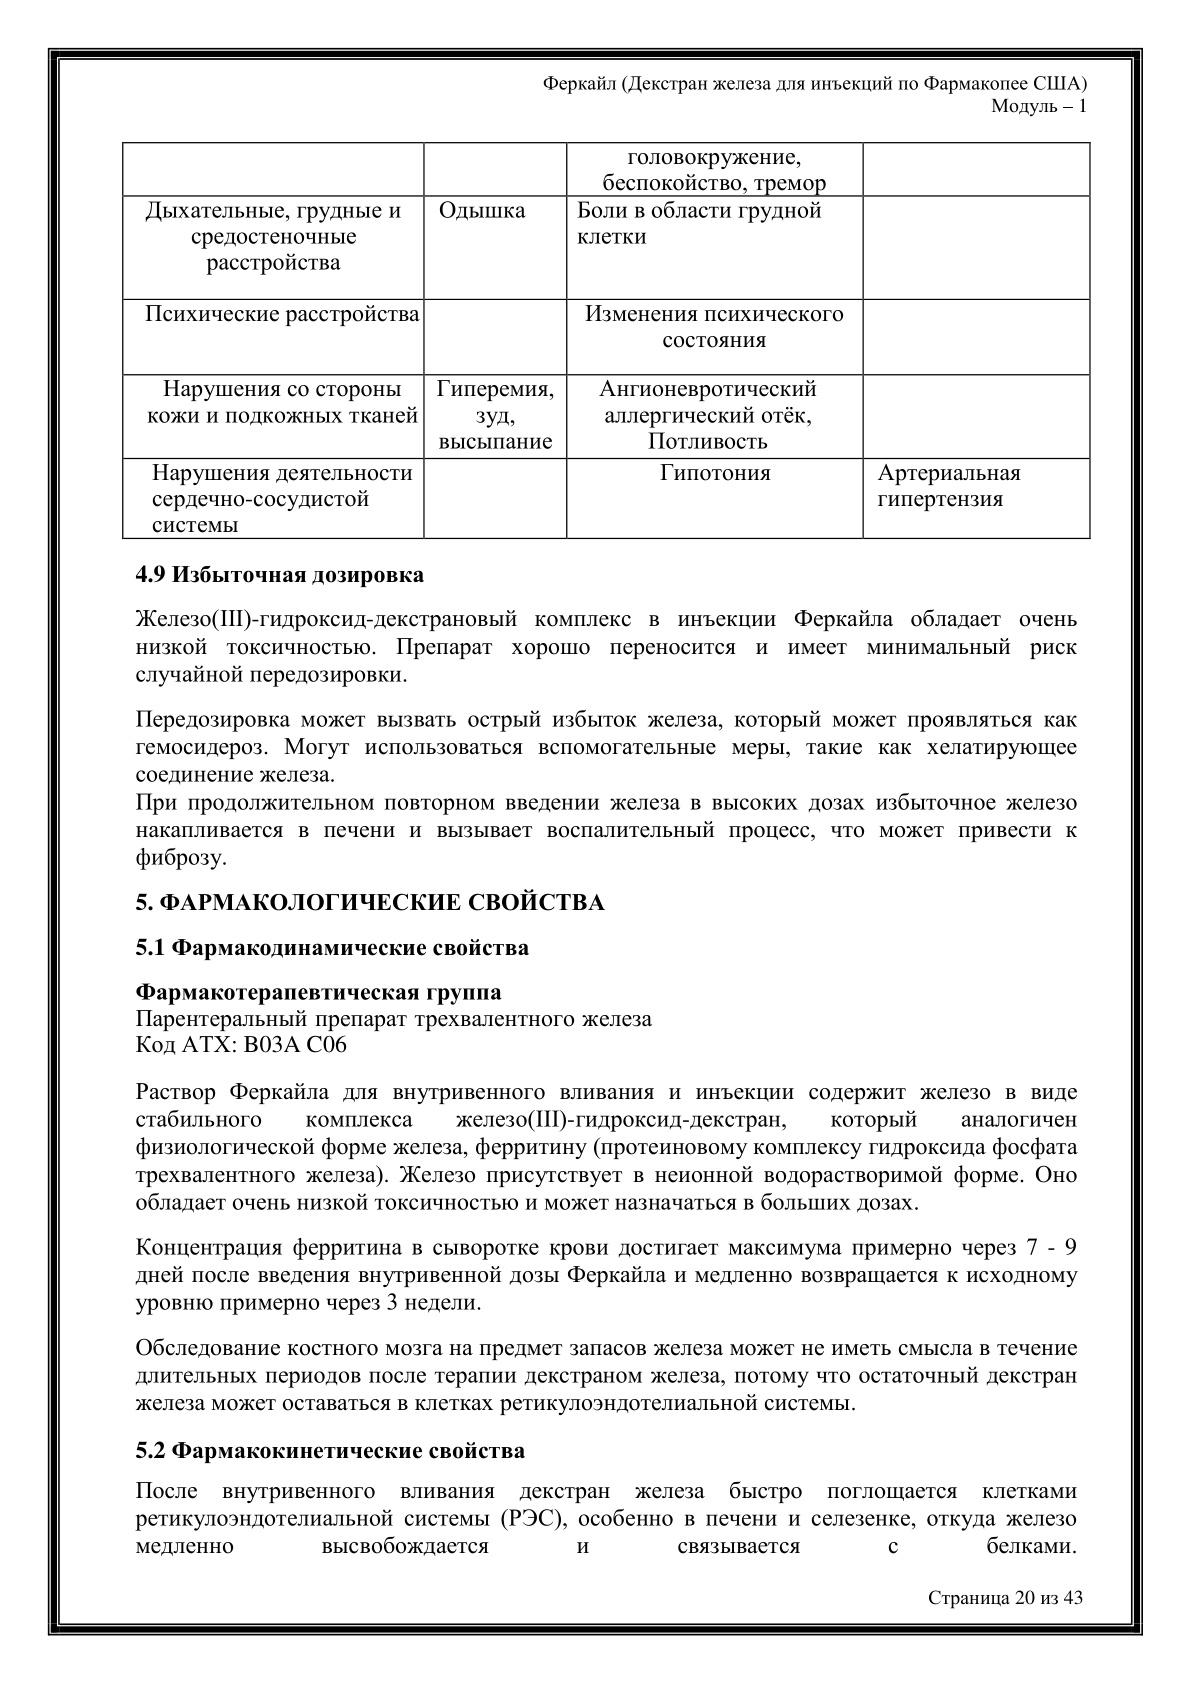full_lined: (121, 142, 1091, 540)
